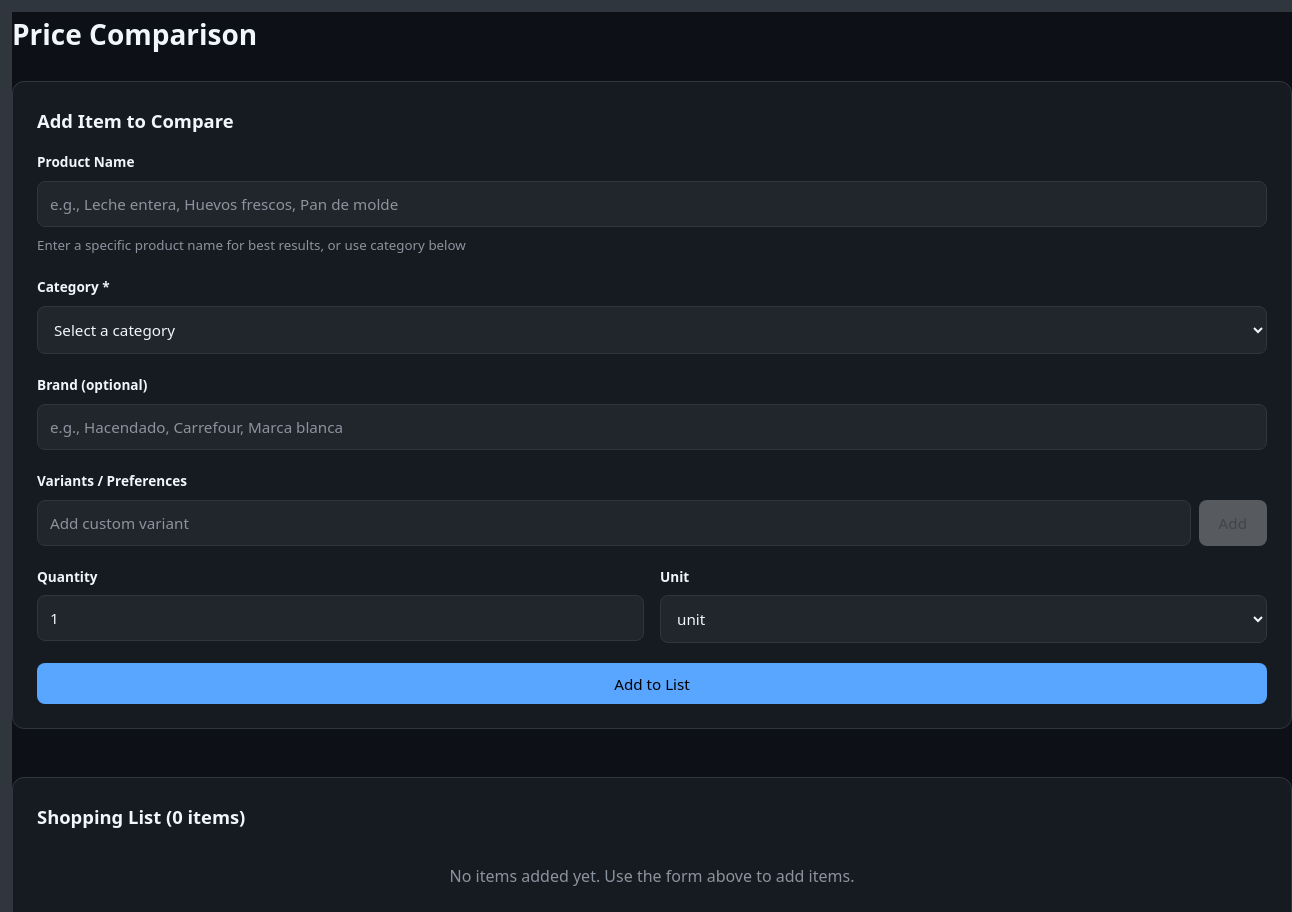
Test case: ComparisonPage › Item Form (C2 - Shopping List Input) › shows variant checkboxes when category is selected
Select a category
Select "Dairy" in the dropdown labelled "Category *" at (652, 330), box [37,306,1267,354]
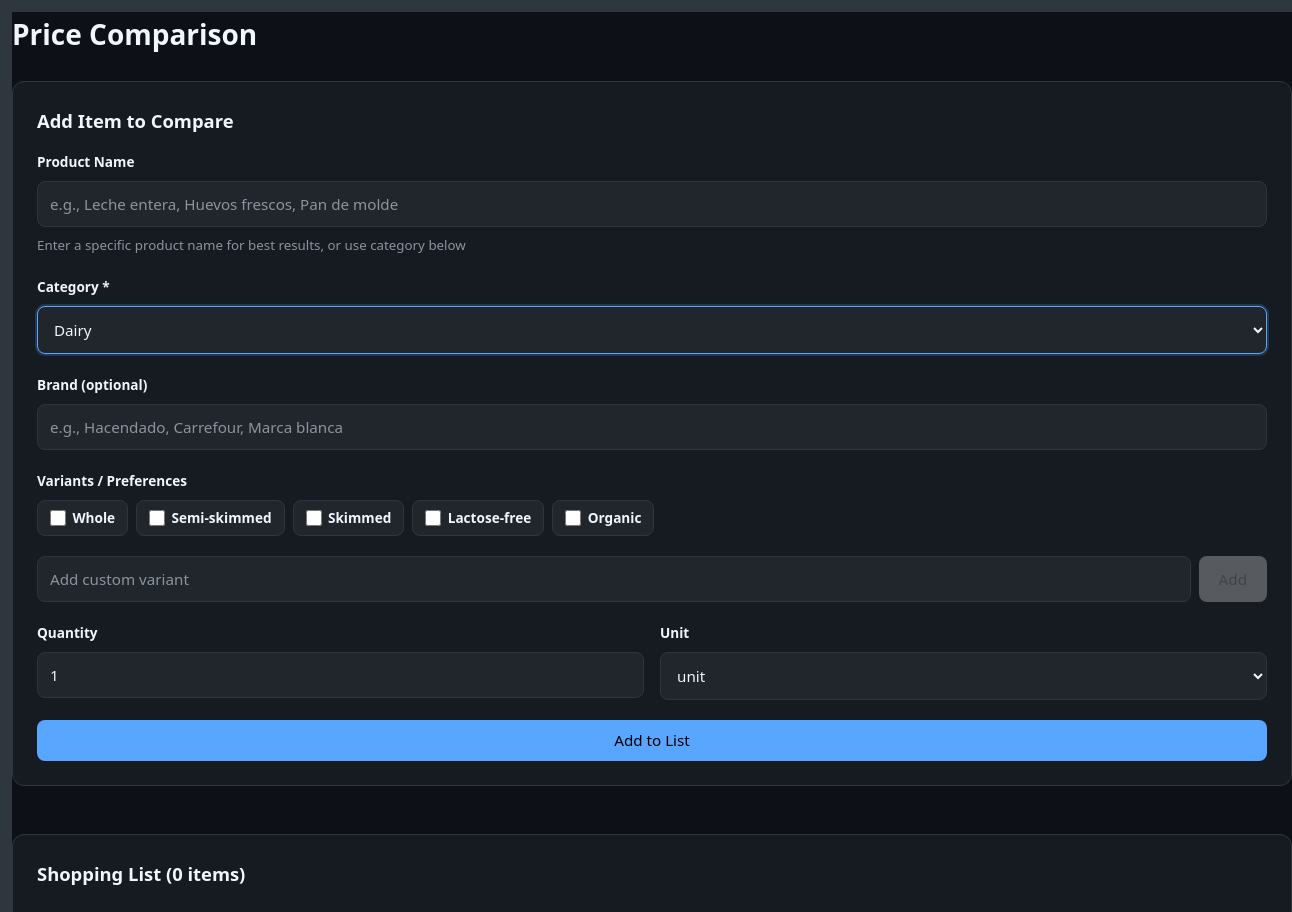
Expected: the text "Whole" is shown, [72,507,115,529]
